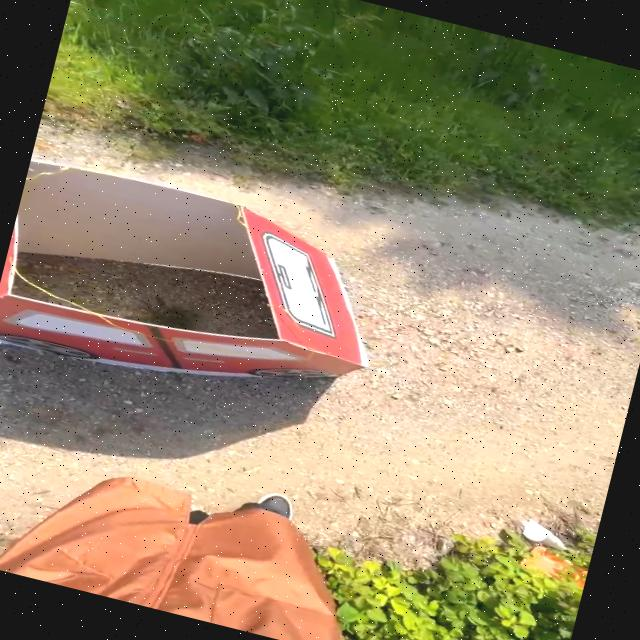red_car: (0, 120, 459, 461)
